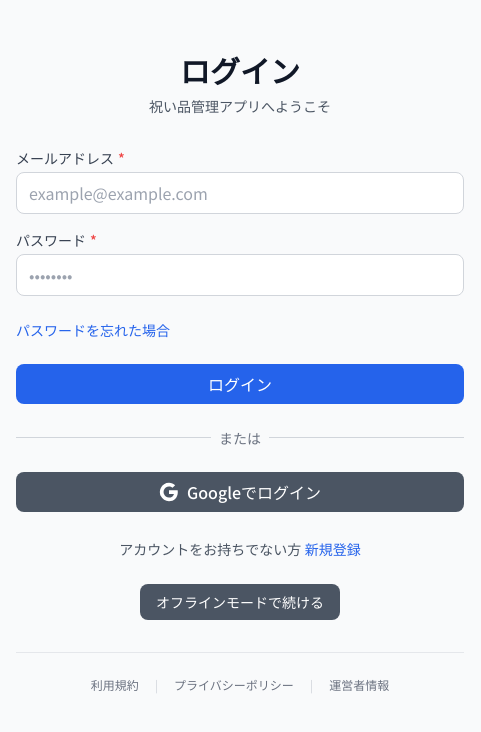
Login Page › Googleログインエラー時にエラーメッセージを表示する
Click the button "Googleでログイン".
click(240, 492)  # box 16,472 -> 464,512
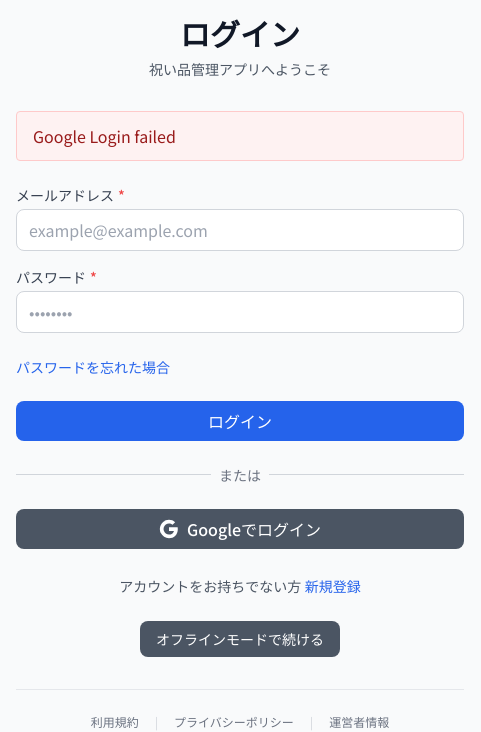
Expected: the text "Google Login failed" is shown, 16,110 -> 464,160
